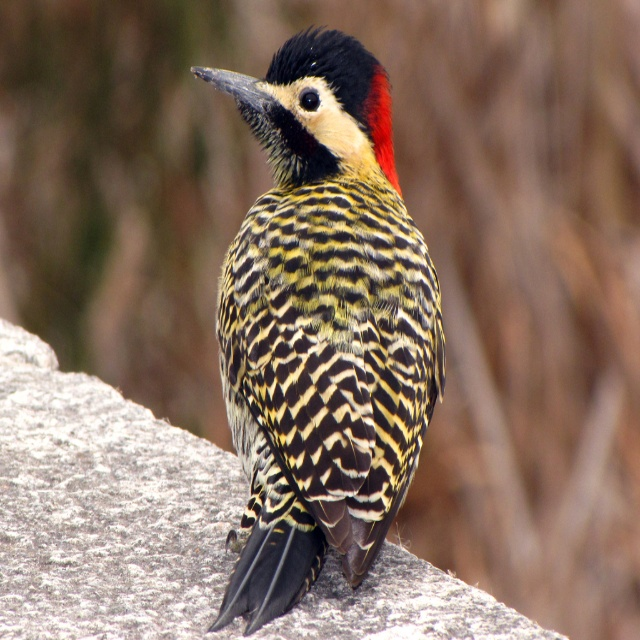Woodpecker: (190, 23, 446, 637)
